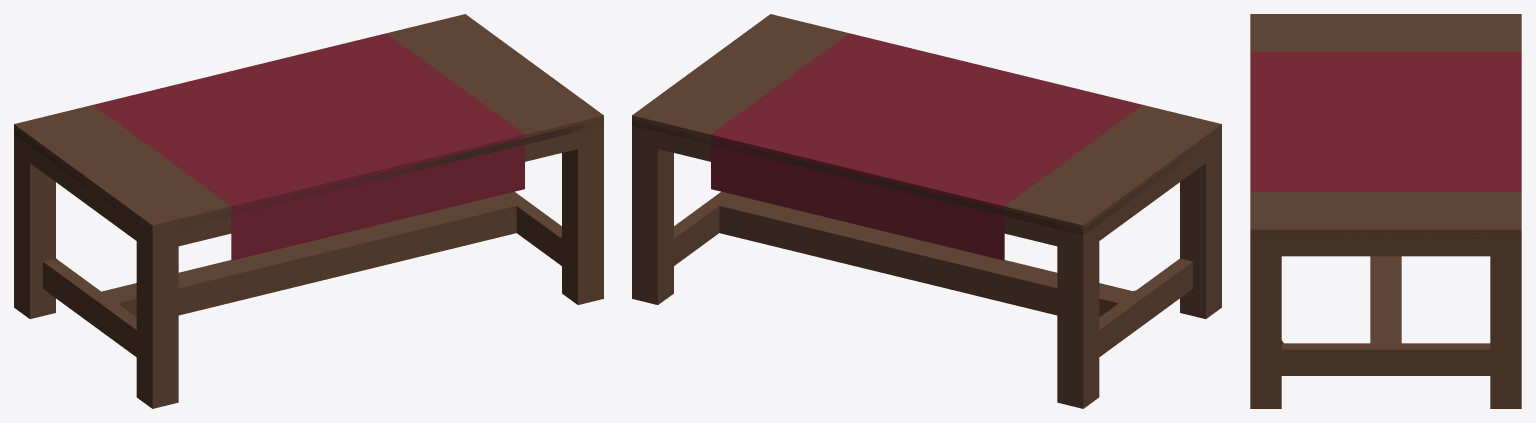
The model's file is tableCloth.glb.
The picture shows the model from 3 angles, left to right: view 1: azimuth 30°, elevation 25°; view 2: azimuth 150°, elevation 25°; view 3: azimuth 270°, elevation 25°; orthographic projection. The views are drawn at different scales.
Parts seen in each view (by area): view 1: tableCloth(Clone); view 2: tableCloth(Clone); view 3: tableCloth(Clone).
Part boxes in pixels (x1,y1,x2,y2): tableCloth(Clone): [14, 14, 603, 408]; tableCloth(Clone): [632, 14, 1221, 408]; tableCloth(Clone): [1250, 14, 1521, 408].
Size of the model in its own units: 0.8415 by 0.3267 by 0.4474.
